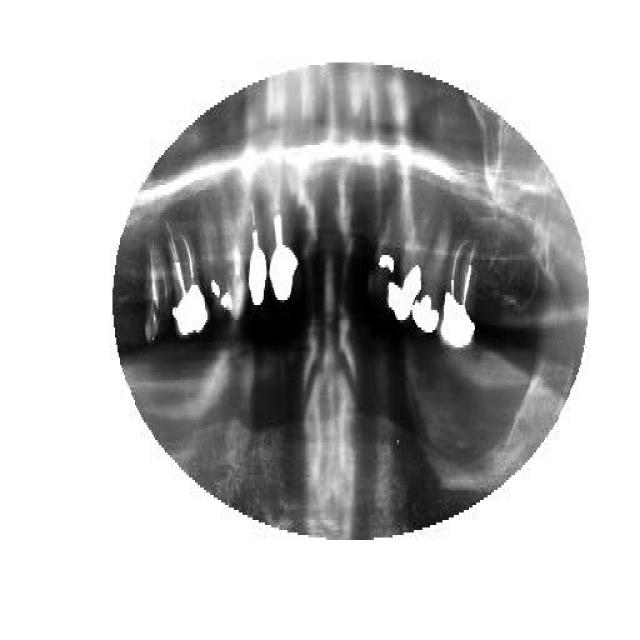Fillings: (388, 198, 437, 322), (411, 212, 450, 330)
Implant: (165, 212, 209, 342), (440, 238, 479, 350), (269, 193, 299, 305), (248, 195, 266, 307)
